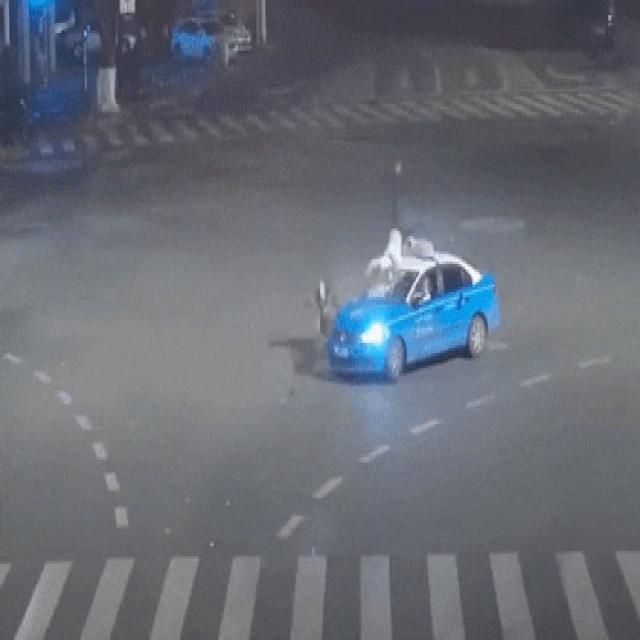multiple_accident: (314, 164, 506, 401)
